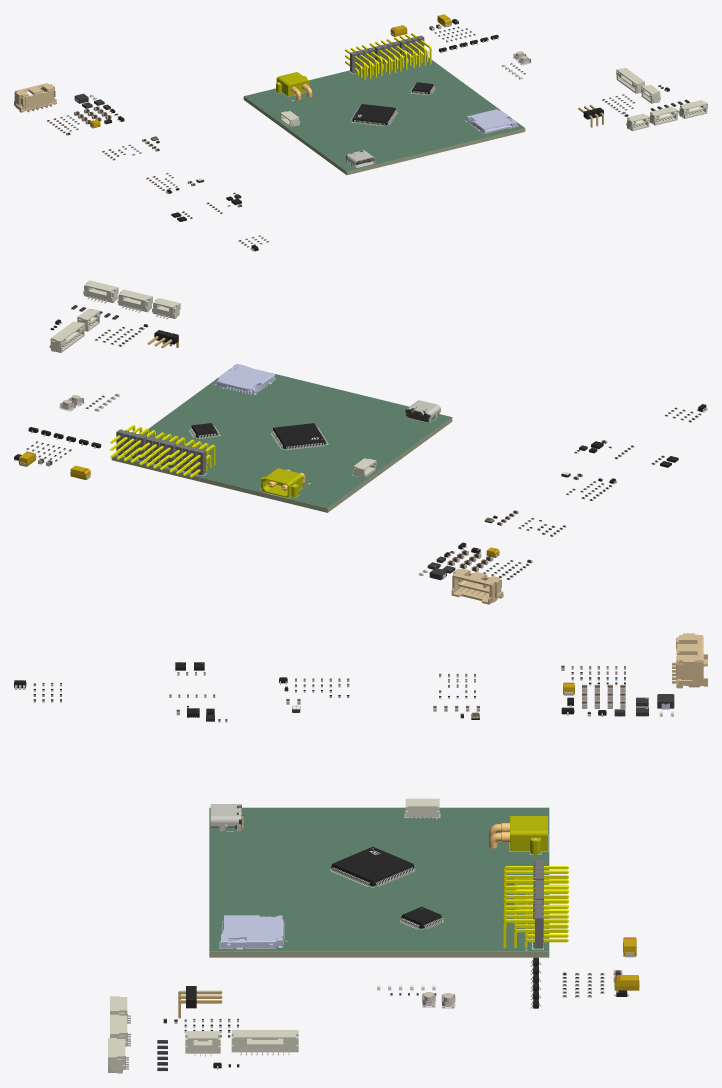
File: ao-horizon.glb
3 views of the same model, one above another, from view 1: azimuth 30°, elevation 25°; view 2: azimuth 150°, elevation 25°; view 3: azimuth 270°, elevation 25° (orthographic). The views are drawn at different scales.
Visible parts, largest first — view 1: =>[0:1:1:96], =>[0:1:1:94], T-1S6-08-TSW-1-08-4-RA-T (×3), =>[0:1:1:88], =>[0:1:1:34] (×2), =>[0:1:1:20], =>[0:1:1:92], =>[0:1:1:14], =>[0:1:1:52], =>[0:1:1:30]; view 2: =>[0:1:1:96], =>[0:1:1:94], T-1S6-08-TSW-1-08-4-RA-T (×3), TSW-104-08-F-T-RA_body (×3), =>[0:1:1:88], =>[0:1:1:34] (×2), =>[0:1:1:20], =>[0:1:1:92], =>[0:1:1:14], =>[0:1:1:52], =>[0:1:1:30]; view 3: =>[0:1:1:96], =>[0:1:1:94], T-1S6-08-TSW-1-08-4-RA-T (×3), =>[0:1:1:92], =>[0:1:1:20], =>[0:1:1:14], =>[0:1:1:88], =>[0:1:1:52], =>[0:1:1:30], =>[0:1:1:28], =>[0:1:1:26], =>[0:1:1:74] (+1 smaller).
Part boxes in pixels (<box>): =>[0:1:1:96]: <box>243,60,525,174</box>; =>[0:1:1:94]: <box>244,56,524,171</box>; T-1S6-08-TSW-1-08-4-RA-T (×3): <box>345,33,431,80</box>; =>[0:1:1:88]: <box>14,83,56,112</box>; =>[0:1:1:34] (×2): <box>650,100,707,125</box>; =>[0:1:1:20]: <box>465,109,517,133</box>; =>[0:1:1:92]: <box>350,104,397,126</box>; =>[0:1:1:14]: <box>276,72,312,100</box>; =>[0:1:1:52]: <box>616,68,644,93</box>; =>[0:1:1:30]: <box>346,150,375,167</box>; =>[0:1:1:96]: <box>111,375,452,512</box>; =>[0:1:1:94]: <box>115,366,451,508</box>; T-1S6-08-TSW-1-08-4-RA-T (×3): <box>110,425,215,477</box>; TSW-104-08-F-T-RA_body (×3): <box>116,429,206,475</box>; =>[0:1:1:88]: <box>451,568,503,604</box>; =>[0:1:1:34] (×2): <box>83,280,152,312</box>; =>[0:1:1:20]: <box>215,363,275,395</box>; =>[0:1:1:92]: <box>270,423,327,450</box>; =>[0:1:1:14]: <box>261,468,305,497</box>; =>[0:1:1:52]: <box>49,321,85,352</box>; =>[0:1:1:30]: <box>405,400,440,423</box>; =>[0:1:1:96]: <box>209,808,549,957</box>; =>[0:1:1:94]: <box>209,807,549,951</box>; T-1S6-08-TSW-1-08-4-RA-T (×3): <box>503,866,568,948</box>; =>[0:1:1:92]: <box>330,846,414,887</box>; =>[0:1:1:20]: <box>221,915,284,949</box>; =>[0:1:1:14]: <box>489,816,547,854</box>; =>[0:1:1:88]: <box>672,633,707,688</box>; =>[0:1:1:52]: <box>231,1030,298,1055</box>; =>[0:1:1:30]: <box>210,804,243,831</box>; =>[0:1:1:28]: <box>185,1031,220,1056</box>; =>[0:1:1:26]: <box>178,986,222,1018</box>; =>[0:1:1:74]: <box>405,798,439,818</box>.
Size of the model in its own units: 0.2306 by 0.0111 by 0.1633.
